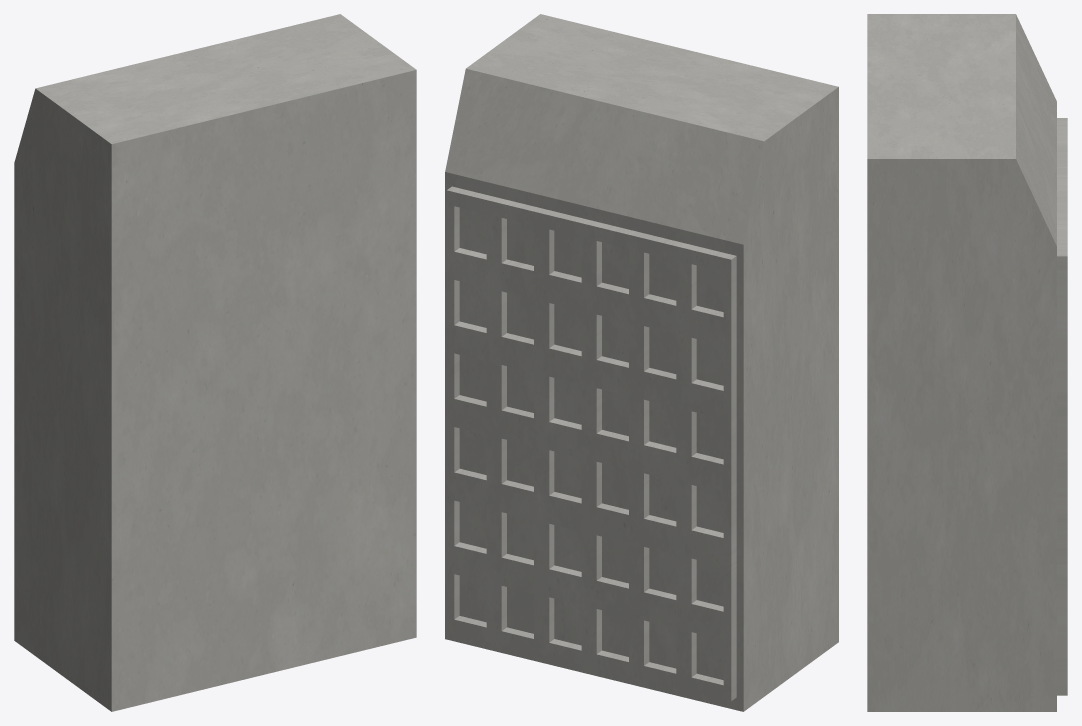
3 views of the same model, side by side, from view 1: azimuth 30°, elevation 25°; view 2: azimuth 150°, elevation 25°; view 3: azimuth 270°, elevation 25° (orthographic). The views are drawn at different scales.
Parts seen in each view (by area): view 1: Cube.005; view 2: Cube.005; view 3: Cube.005.
Boxes of the visible parts, bbox=[...] form: Cube.005: bbox=[14, 14, 416, 711]; Cube.005: bbox=[445, 14, 838, 711]; Cube.005: bbox=[867, 14, 1067, 711].
Size of the model in its own units: 1.09 by 1.94 by 0.6365.
Materials: 1 (1 with a texture image).
